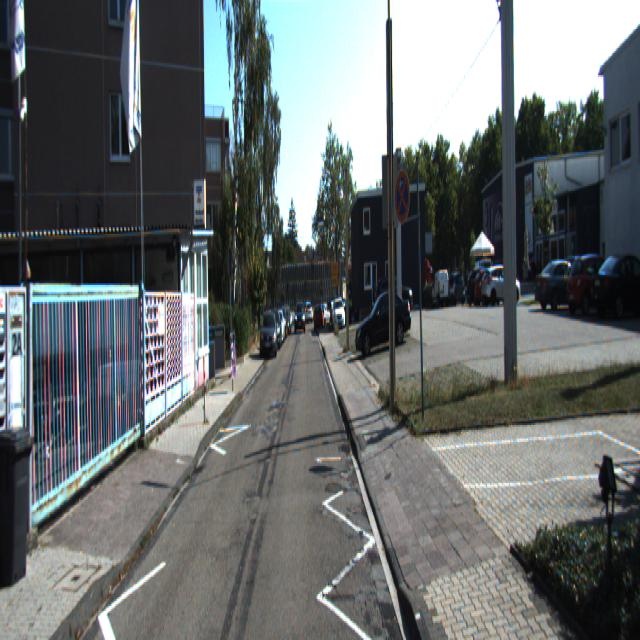Car: (565, 251, 632, 319), (352, 283, 413, 357), (588, 248, 640, 325), (534, 253, 595, 312), (480, 264, 521, 309), (258, 308, 278, 359), (432, 270, 450, 309)
